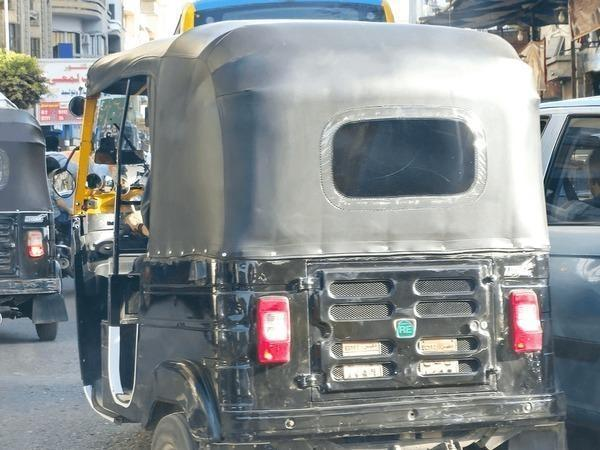keke: (37, 9, 511, 447), (0, 82, 70, 354)
